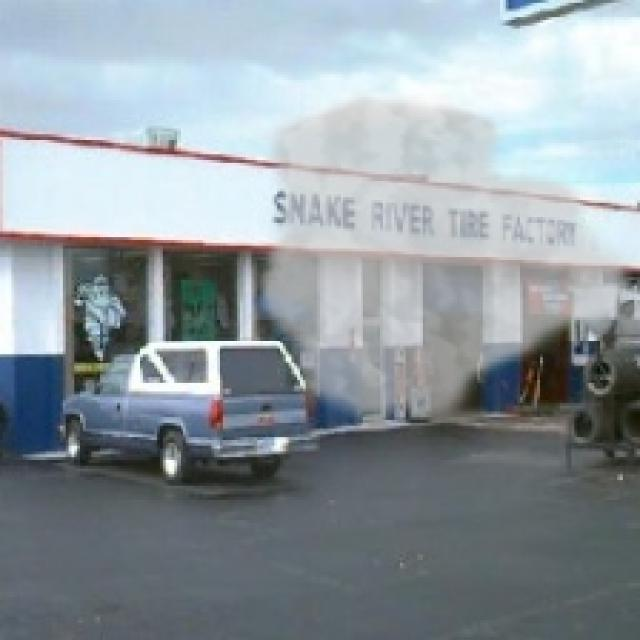smoke: (252, 89, 637, 434)
